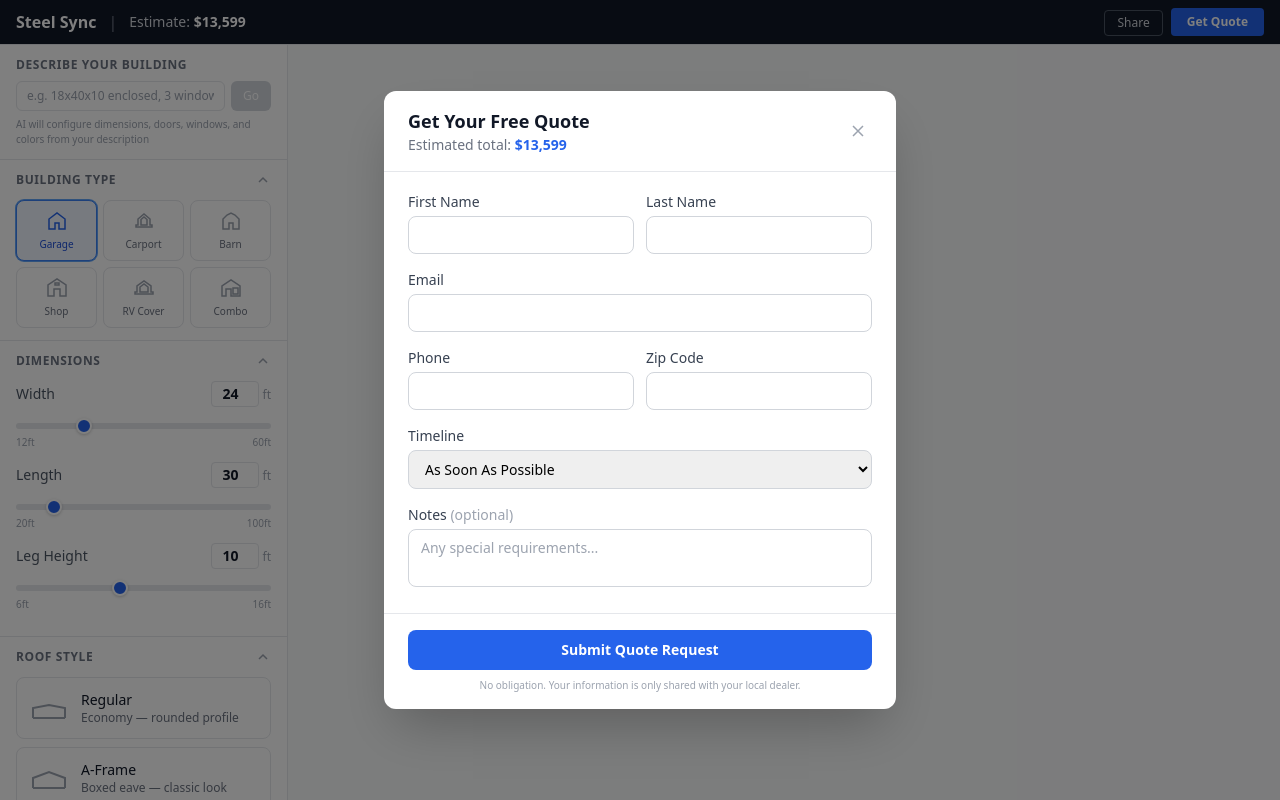
Test: BuildingDesigner root: quote modal visibility across a real submission › shows "Quote Submitted!" after a real success, driven through the actual store + root gating (would have failed before the fix)
Type "Jane" into the field below "First Name" at x=521, y=235, box [408,216,634,254]
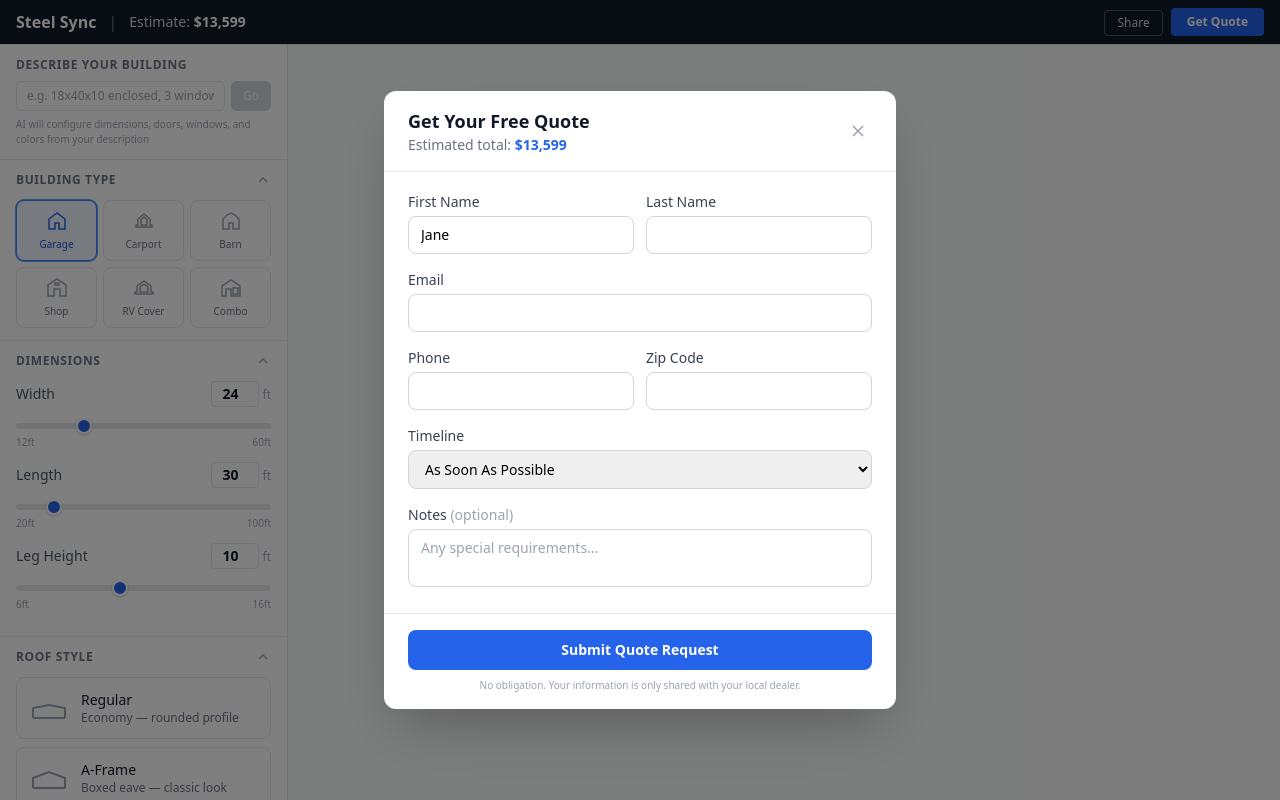
Type "Doe" into the field below "Last Name" at x=759, y=235, box [646,216,872,254]
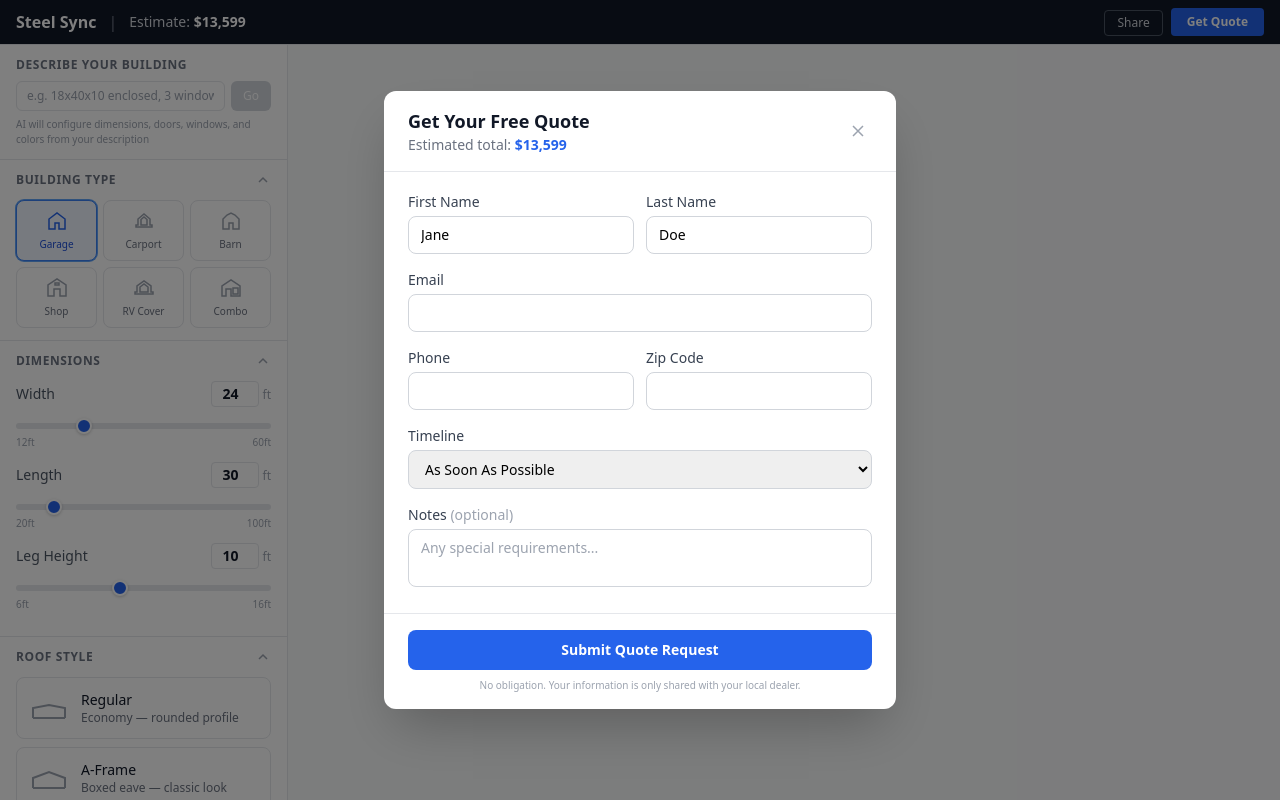
Type "jane@example.com" into the field below "Email" at x=640, y=313, box [408,294,872,332]
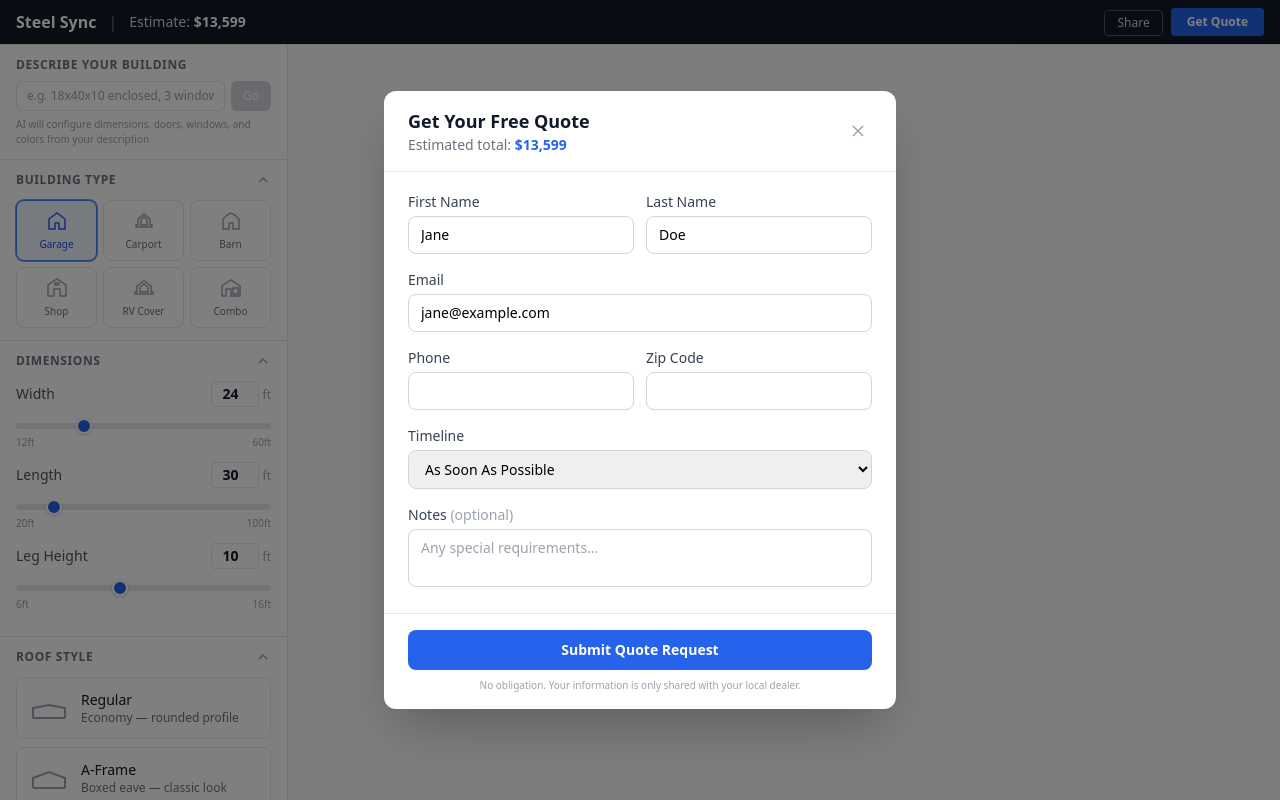
Type "5551234567" into the field below "Phone" at x=521, y=391, box [408,372,634,410]
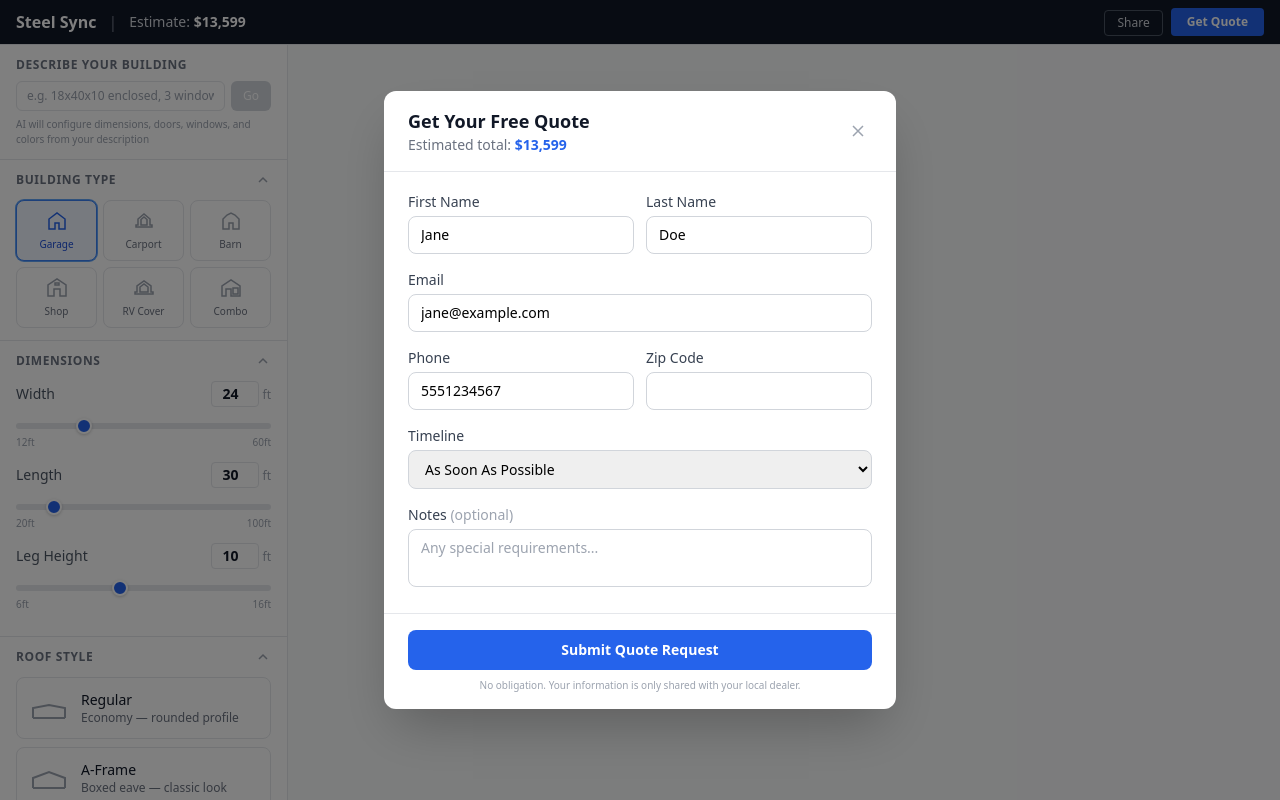
Type "75001" into the field below "Zip Code" at x=759, y=391, box [646,372,872,410]
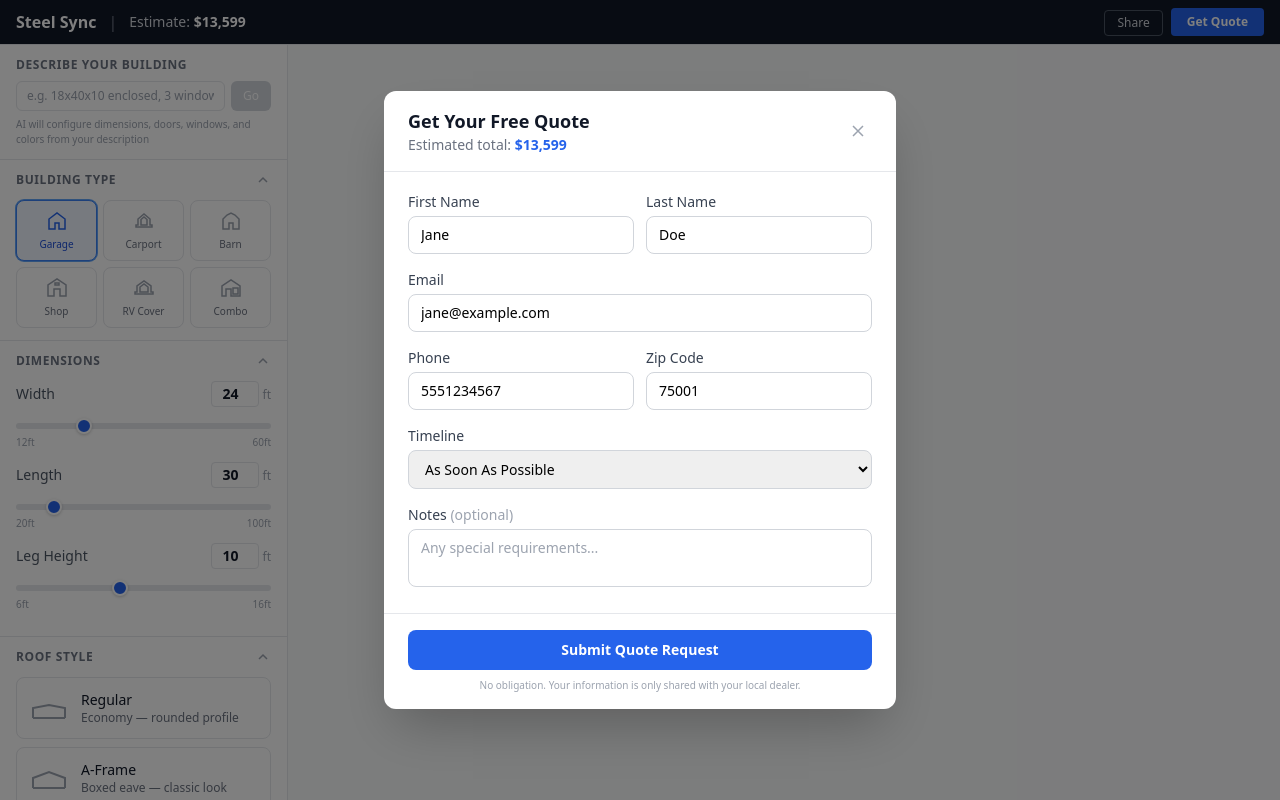
Click the button "Submit Quote Request" at x=640, y=650, box [408,630,872,670]
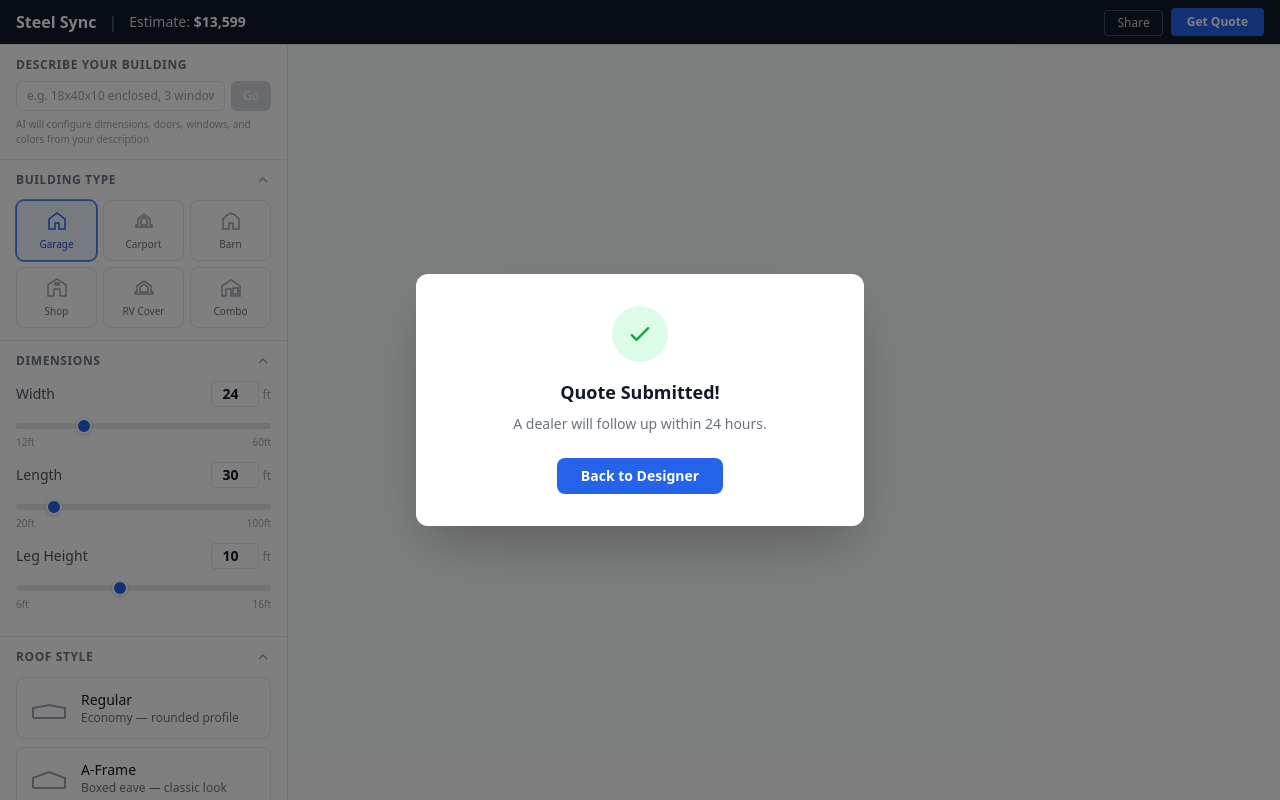
expect the heading "Quote Submitted!" is shown: met, box [560,380,720,404]
